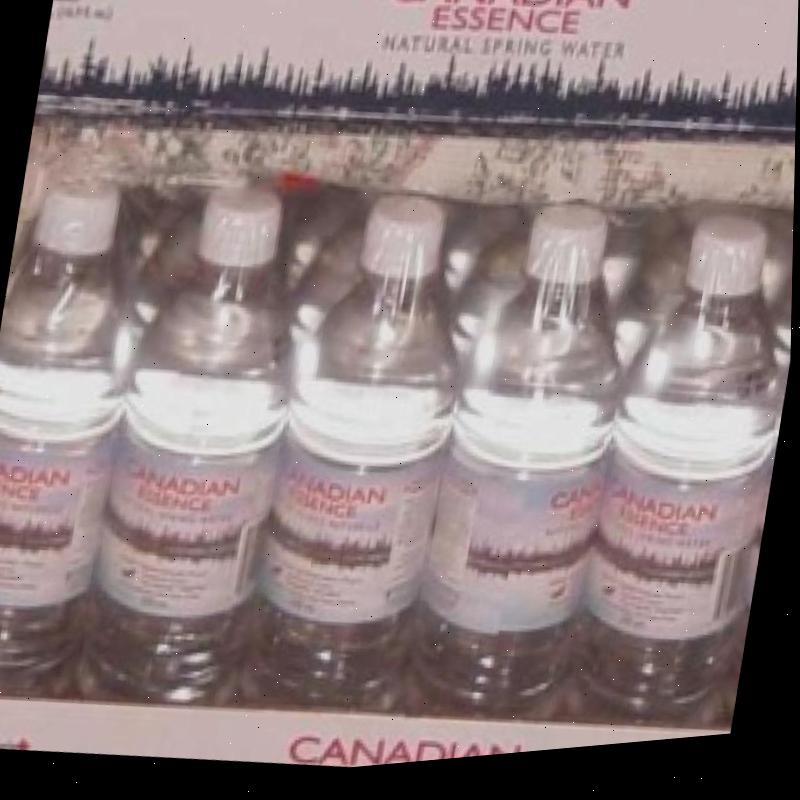botella: (78, 178, 332, 730), (252, 186, 496, 739), (417, 198, 651, 740), (571, 200, 796, 745), (0, 179, 159, 710), (428, 190, 531, 366), (274, 182, 365, 362), (591, 217, 693, 375), (108, 187, 210, 345), (752, 212, 795, 355)
